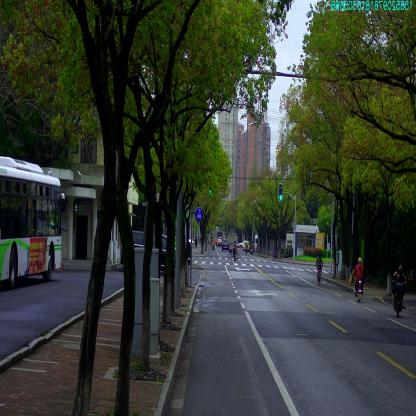traffic-light: (279, 184, 283, 200), (209, 188, 212, 196)
